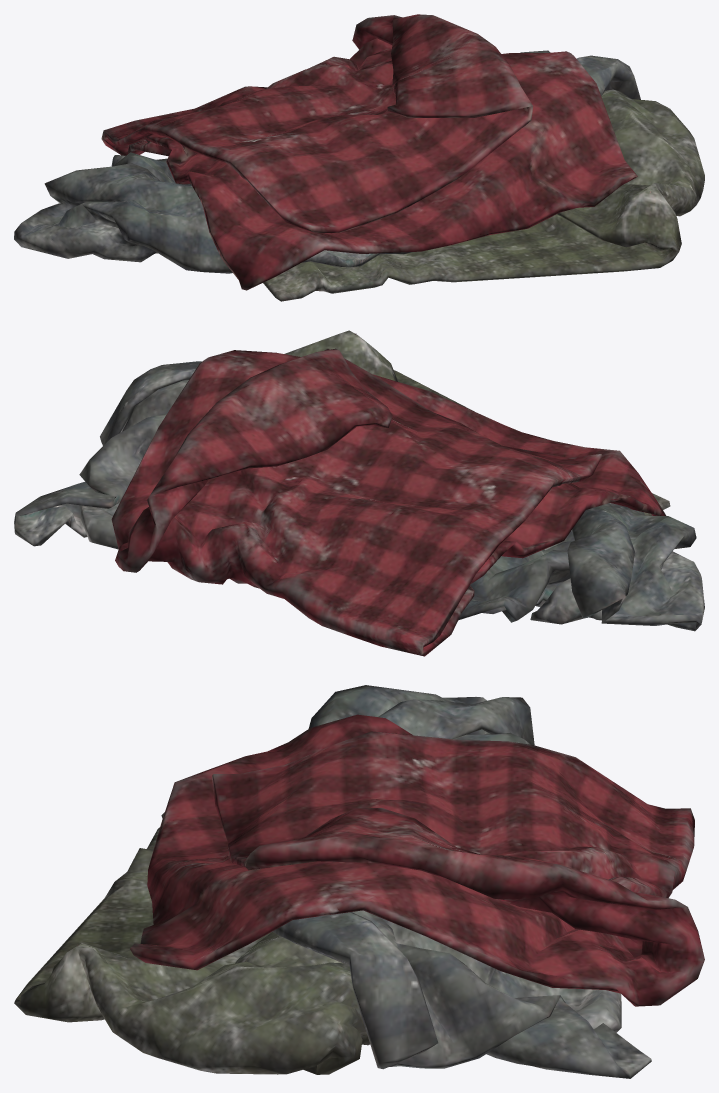
File: frosted_sheets.glb
3 views of the same model, one above another, from view 1: azimuth 30°, elevation 25°; view 2: azimuth 150°, elevation 25°; view 3: azimuth 270°, elevation 25° (orthographic). The views are drawn at different scales.
Parts seen in each view (by area): view 1: Object_2; view 2: Object_2; view 3: Object_2.
Boxes of the visible parts, x1,y1,x2,y2 form: Object_2: (14, 14, 704, 301); Object_2: (14, 330, 704, 656); Object_2: (14, 685, 704, 1078).
Size of the model in its own units: 2.99 by 0.5775 by 2.35.
1 material, 1 textured.
